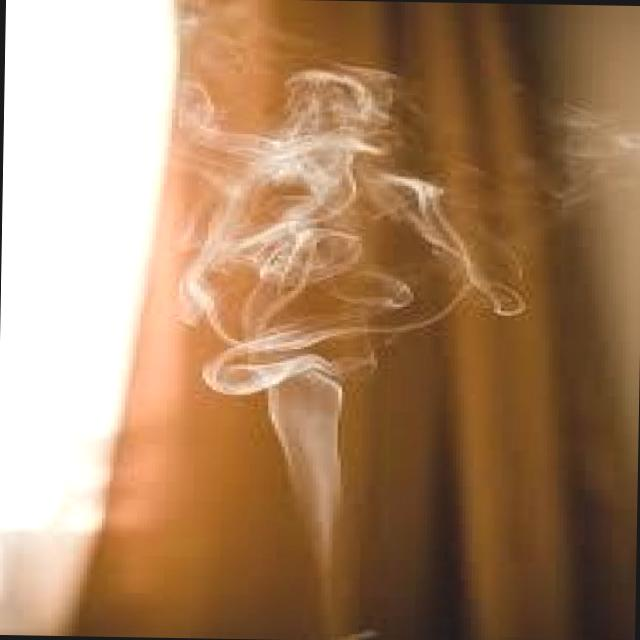smoke: (166, 36, 449, 420)
